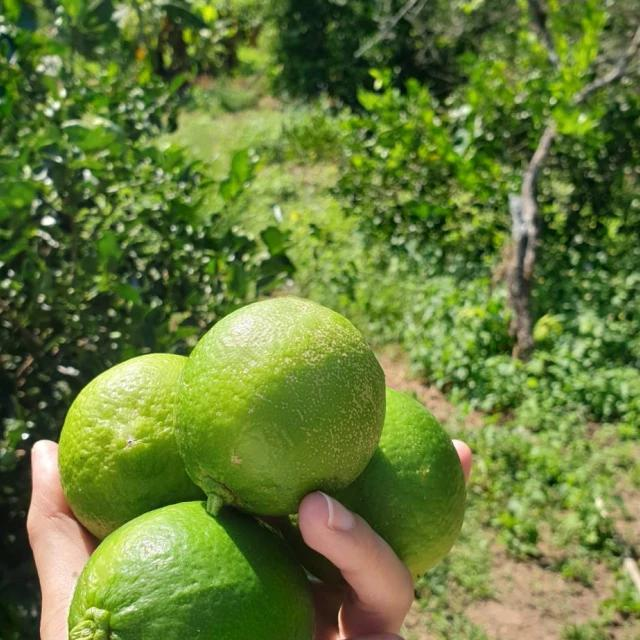lime: (173, 285, 392, 527), (43, 340, 278, 565), (269, 374, 473, 583), (59, 488, 330, 640)
